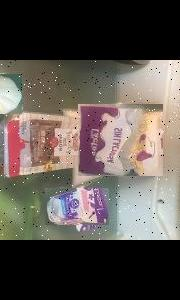Queso: (77, 104, 162, 176)
Yogur: (44, 188, 108, 225)
